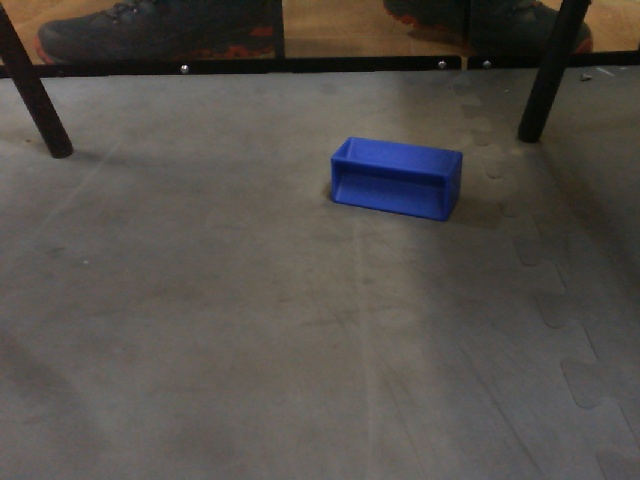BlueSample: (324, 131, 466, 231)
